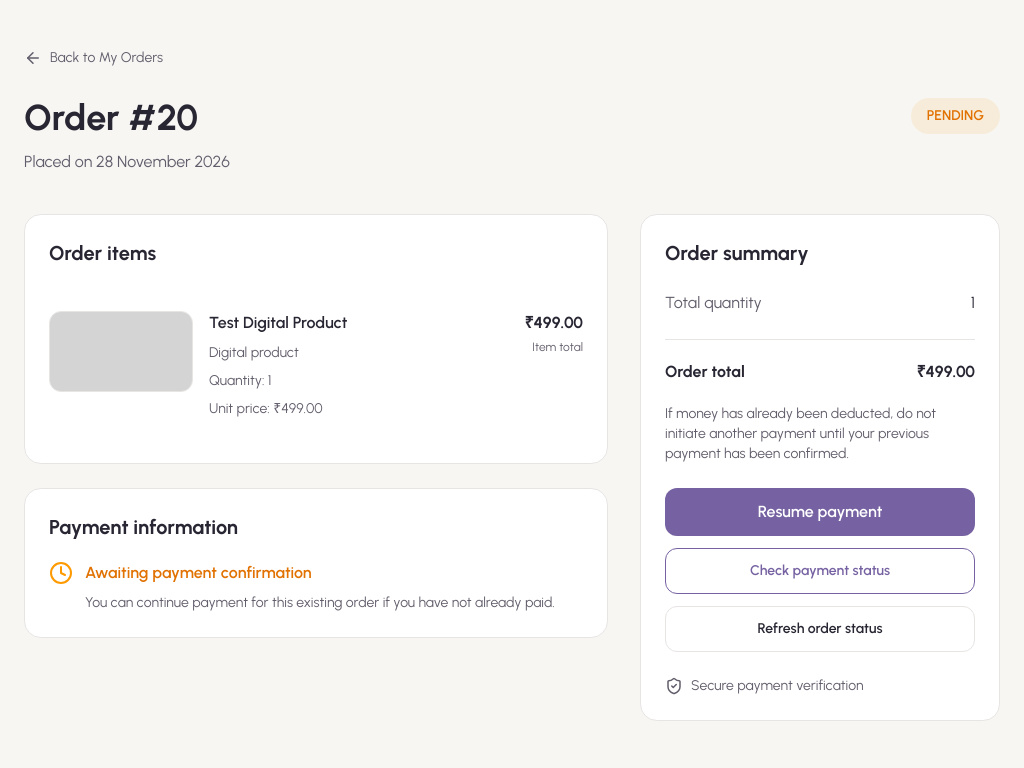
OrderDetailsPage payment workflow › disables all payment controls during reconciliation
This screenshot has width=1024, height=768.
Step 1. Click the button "Check payment status" → x=820, y=571, box x1=665 y1=548 x2=975 y2=594
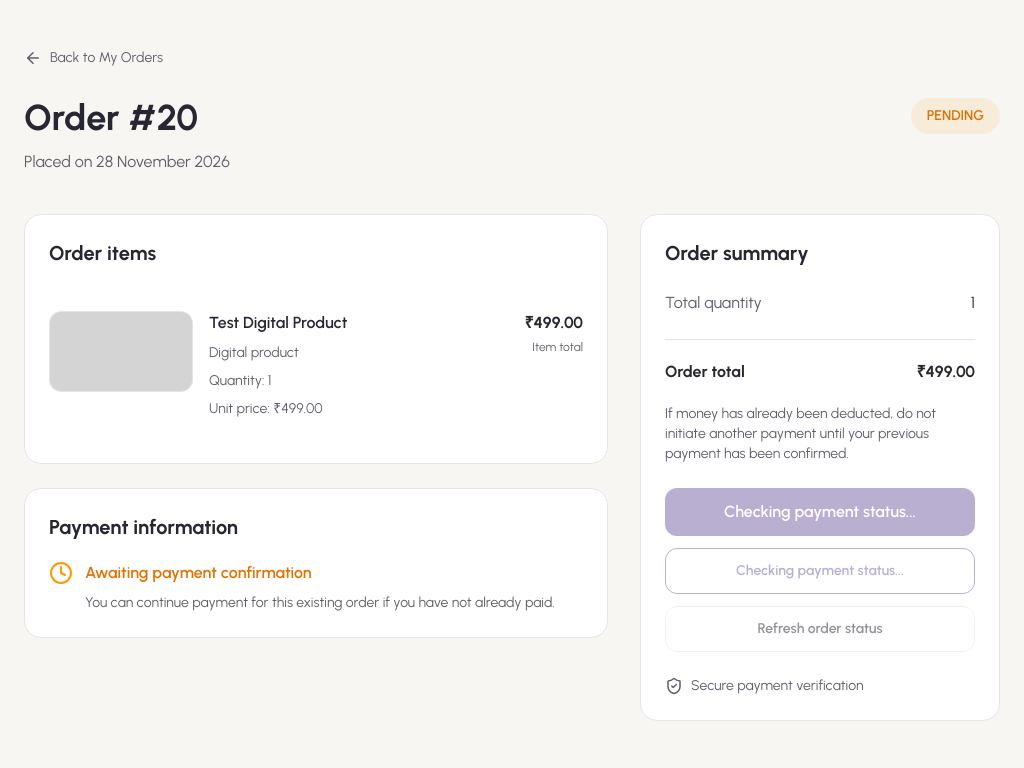
Expected: the 1st button "Checking payment status..." is disabled
Expected: the 2nd button "Checking payment status..." is disabled, x1=665 y1=548 x2=975 y2=594
Expected: the button "Refresh order status" is disabled, x1=665 y1=606 x2=975 y2=652
Step 2. Click the 1st button "Checking payment status..." → x=820, y=512, box x1=665 y1=488 x2=975 y2=536
(page scrolled)
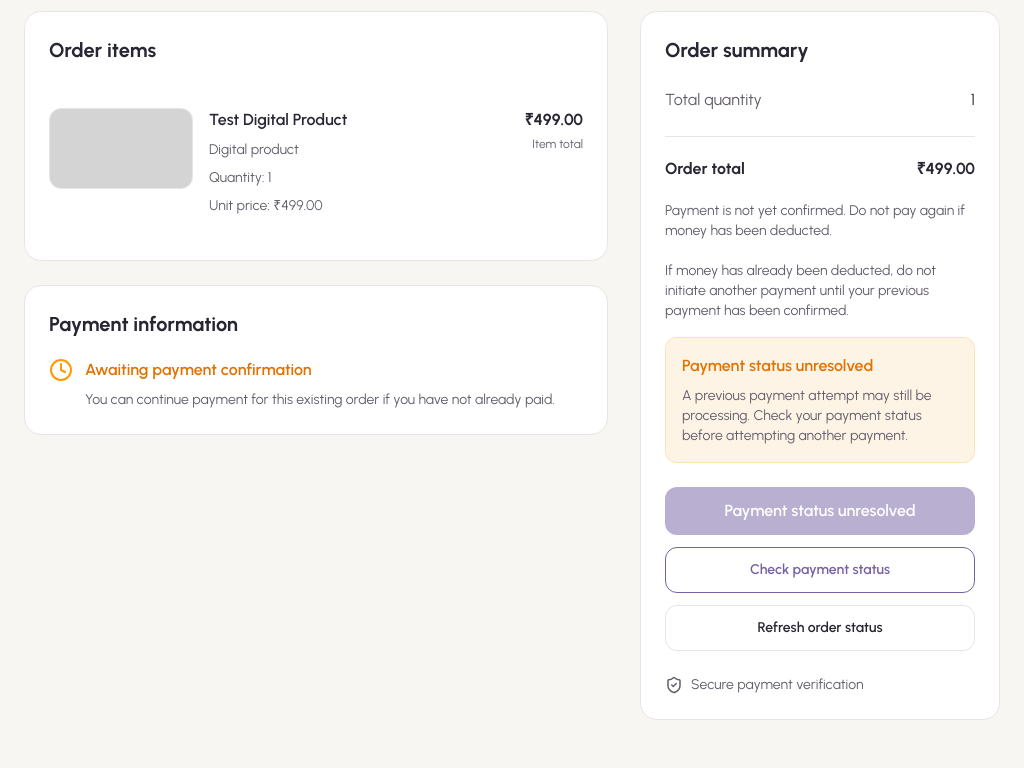
Expected: the message that starts with "Payment status unresolved" is shown, x1=682 y1=356 x2=873 y2=375
Expected: the button "Check payment status" is enabled, x1=665 y1=547 x2=975 y2=593
